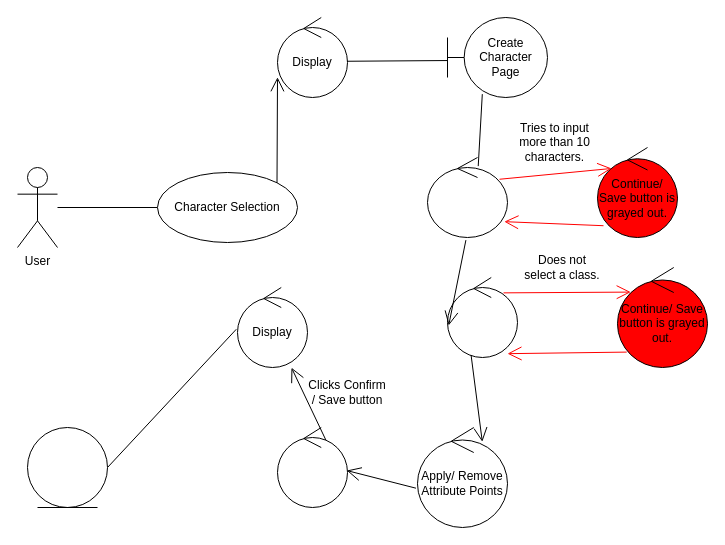
Image size: 725x545. Some labels were removed from this diagram. Here are the shapes that lost their labels. From the top down, the box of each, then its label:
(426, 156, 508, 238): Type in new name in name field.
(446, 276, 518, 358): Select Character Class
(26, 426, 108, 508): Character Database
(276, 426, 348, 508): Customize Character
